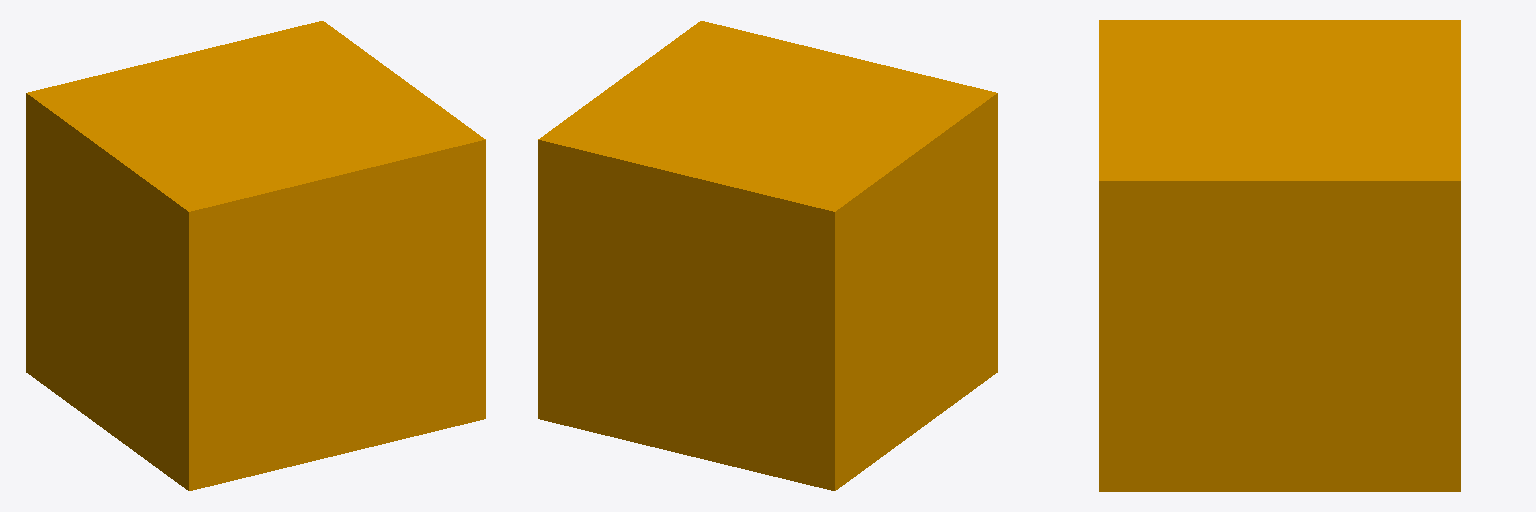
URDF robot description (2x2):
<?xml version='1.0' encoding='UTF-8'?>
<robot name="2x2">
  <link name="base_link">
    <inertial>
      <origin xyz="0.0 0.0 0.0" rpy="0.0 0.0 0.0"/>
      <mass value="0.1"/>
      <inertia ixx="0.1" ixy="0.0" ixz="0.0" iyy="0.1" iyz="0.0" izz="0.1"/>
    </inertial>
    <visual>
      <geometry>
        <box size="       0.02       0.019       0.018"/>
      </geometry>
      <material name=""/>
      <origin xyz="0.0 0.0 0.0" rpy="0.0 0.0 0.0"/>
    </visual>
    <collision>
      <geometry>
        <box size="       0.02       0.019       0.018"/>
      </geometry>
      <origin xyz="0.0 0.0 0.0" rpy="0.0 0.0 0.0"/>
    </collision>
  </link>
  <material name="">
    <color rgba="    0.52952     0.05574     0.62727           1"/>
  </material>
  <contact>
    <lateral_friction value="1.0"/>
    <rolling_friction value="0.0"/>
    <contact_cfm value="0.0"/>
    <contact_erp value="1.0"/>
  </contact>
</robot>

--- Facts derived from the render (not from the file) ---
3 views of the same robot in one strip: view 1: azimuth 30°, elevation 25°; view 2: azimuth 150°, elevation 25°; view 3: azimuth 270°, elevation 25° (orthographic).
Robot: 2x2 — 1 links, 0 joints (none); root link base_link; default pose: every joint at zero.
Visible links, largest first — view 1: base_link; view 2: base_link; view 3: base_link.
Boxes of the visible links, bbox=[...] form: base_link: bbox=[26, 21, 485, 490]; base_link: bbox=[538, 21, 997, 490]; base_link: bbox=[1099, 20, 1460, 491].
Size in the robot's own frame: 0.02 by 0.019 by 0.018 metres.
Geometry: primitives only (box / cylinder / sphere), no mesh files.